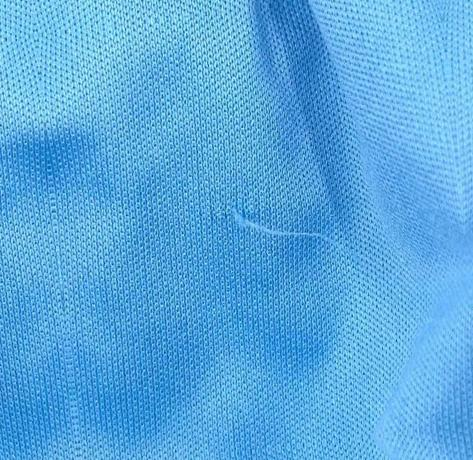snag: (220, 198, 351, 263)
